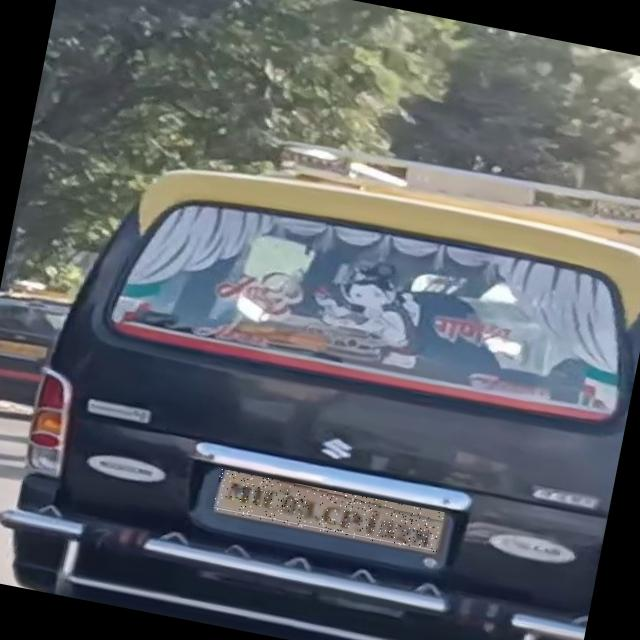Plate: (214, 470, 446, 555)
